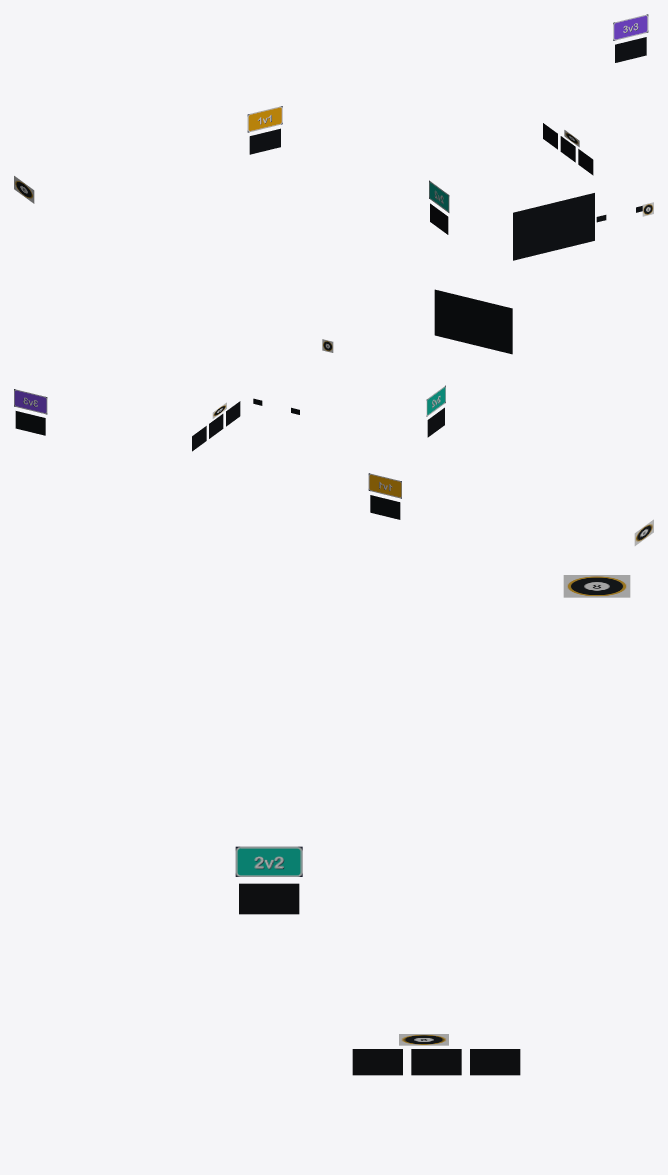
Rendered from Hub_Screens.fbx.
3 renders of one model, top to bottom at view 1: azimuth 30°, elevation 25°; view 2: azimuth 150°, elevation 25°; view 3: azimuth 270°, elevation 25°, orthographic. The views are drawn at different scales.
Visible parts, largest first — view 1: Screen_Featured, Sign_Zone_3v3, Sign_Zone_1v1, Screen_Zone_1v1, Screen_Zone_3v3, Sign_Zone_2v2; view 2: Screen_Featured, Sign_Zone_1v1, Sign_Zone_3v3, Screen_Zone_1v1, Screen_Zone_3v3; view 3: Sign_Zone_2v2, Screen_Zone_2v2, Sign_Logo_ProDoor, Screen_Leader_2, Screen_Leader_1, Screen_Leader_3.
Part boxes in pixels (bbox=[...]): Screen_Featured: bbox=[513, 193, 594, 260]; Sign_Zone_3v3: bbox=[613, 14, 648, 40]; Sign_Zone_1v1: bbox=[247, 106, 282, 132]; Screen_Zone_1v1: bbox=[249, 128, 280, 154]; Screen_Zone_3v3: bbox=[615, 37, 646, 62]; Sign_Zone_2v2: bbox=[429, 180, 449, 212]; Screen_Featured: bbox=[434, 289, 512, 354]; Sign_Zone_1v1: bbox=[368, 473, 401, 498]; Sign_Zone_3v3: bbox=[14, 389, 47, 414]; Screen_Zone_1v1: bbox=[370, 495, 400, 519]; Screen_Zone_3v3: bbox=[15, 411, 45, 435]; Sign_Zone_2v2: bbox=[235, 846, 302, 876]; Screen_Zone_2v2: bbox=[239, 883, 299, 914]; Sign_Logo_ProDoor: bbox=[563, 575, 630, 597]; Screen_Leader_2: bbox=[411, 1049, 461, 1075]; Screen_Leader_1: bbox=[352, 1049, 402, 1075]; Screen_Leader_3: bbox=[470, 1049, 520, 1075].
Size of the model in its own units: 147 by 21.4 by 76.48.
5 materials, 4 textured.
